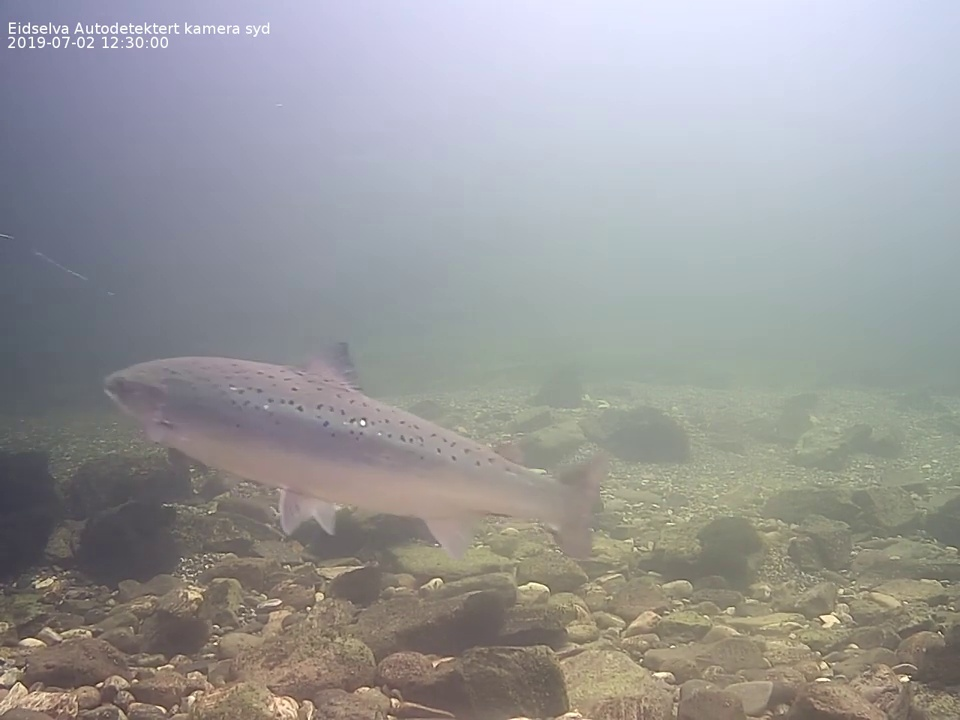salmon: (101, 338, 615, 564)
